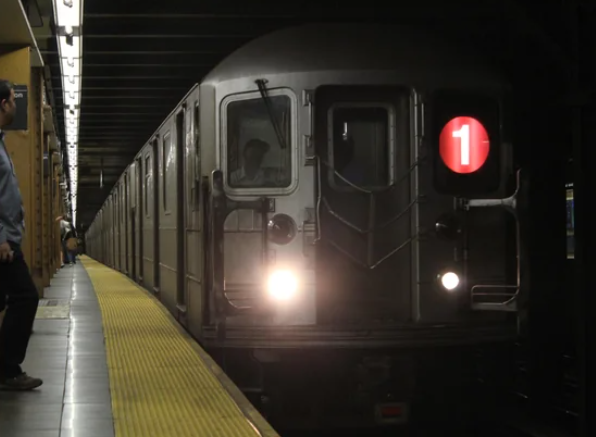train: (195, 33, 534, 346)
